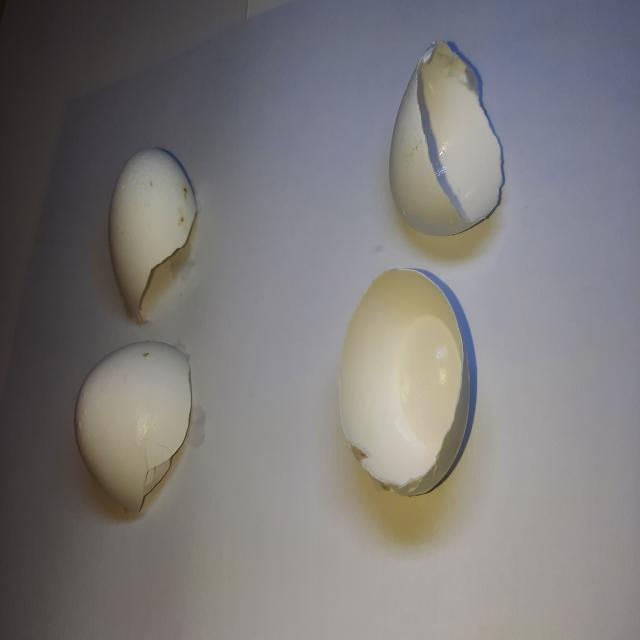egg shell: (333, 262, 477, 499), (383, 32, 508, 248), (72, 341, 196, 519), (99, 137, 204, 332)
